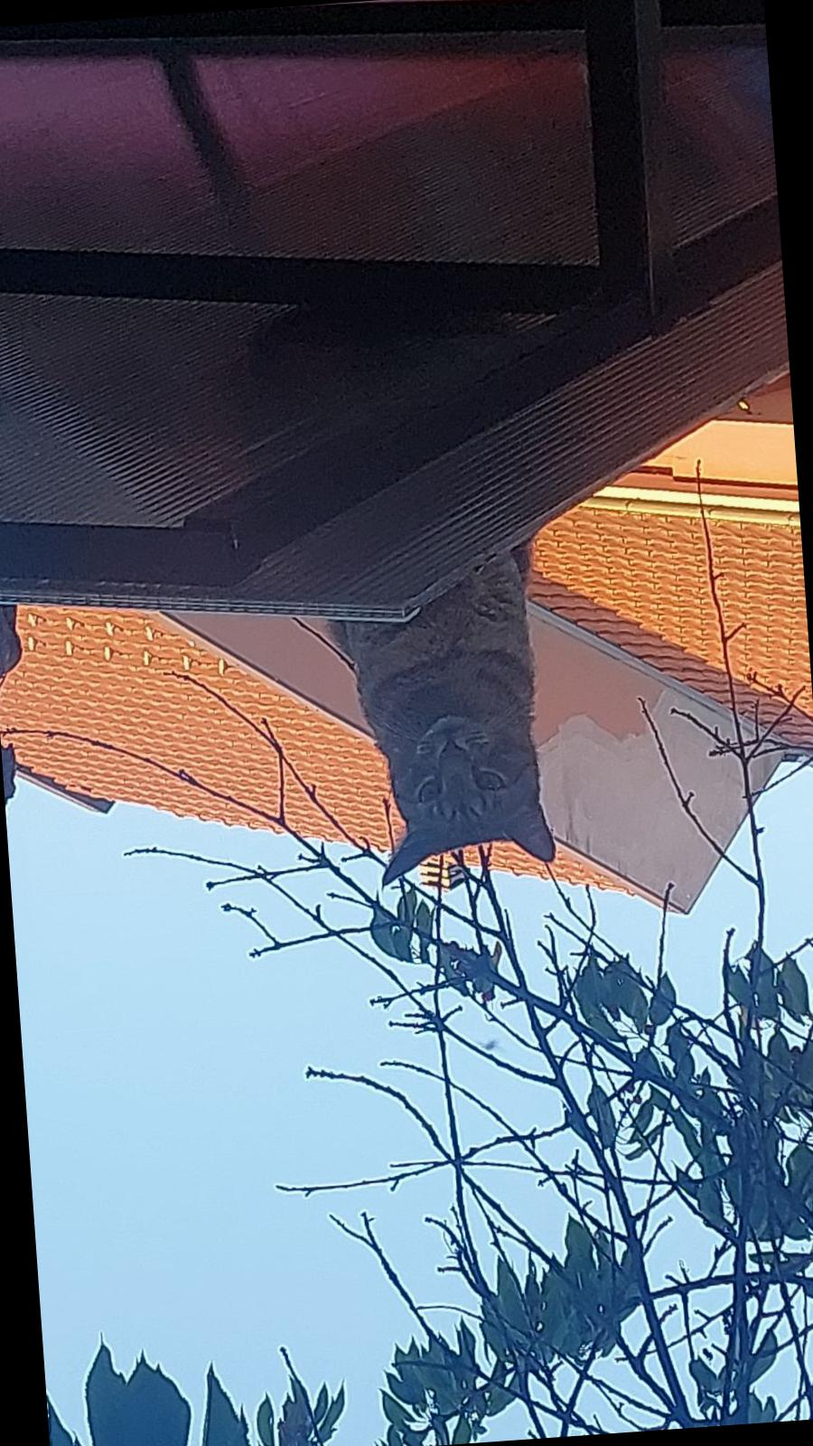macka: (318, 454, 558, 895)
